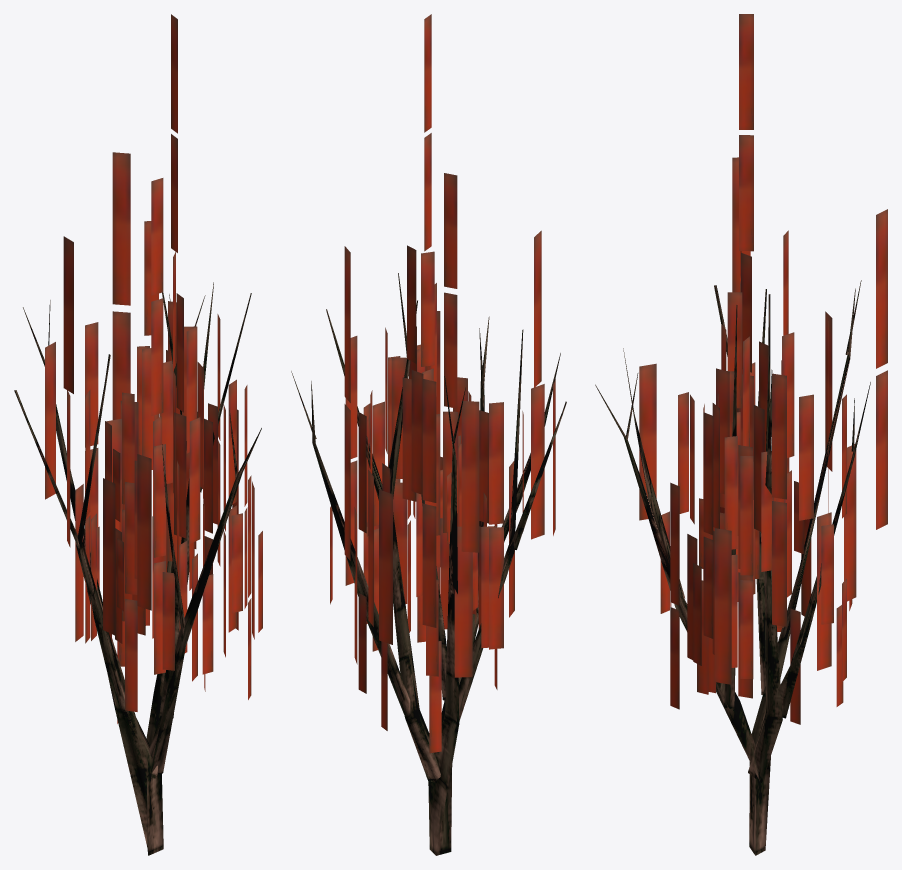
File: RedTree_4.gltf
3 views of the same model, side by side, from view 1: azimuth 30°, elevation 25°; view 2: azimuth 150°, elevation 25°; view 3: azimuth 270°, elevation 25° (orthographic). The views are drawn at different scales.
Parts seen in each view (by area): view 1: RedTree_4; view 2: RedTree_4; view 3: RedTree_4.
Part boxes in pixels (x1,y1,x2,y2): RedTree_4: (14,14,262,855); RedTree_4: (291,14,566,855); RedTree_4: (595,14,887,855).
Size of the model in its own units: 1.88 by 6.23 by 1.96.
90 materials, 90 textured.
